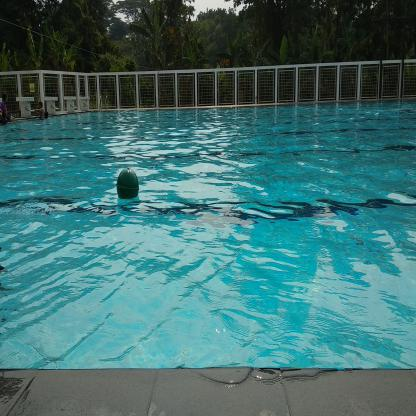green_buoy: (116, 165, 141, 204)
